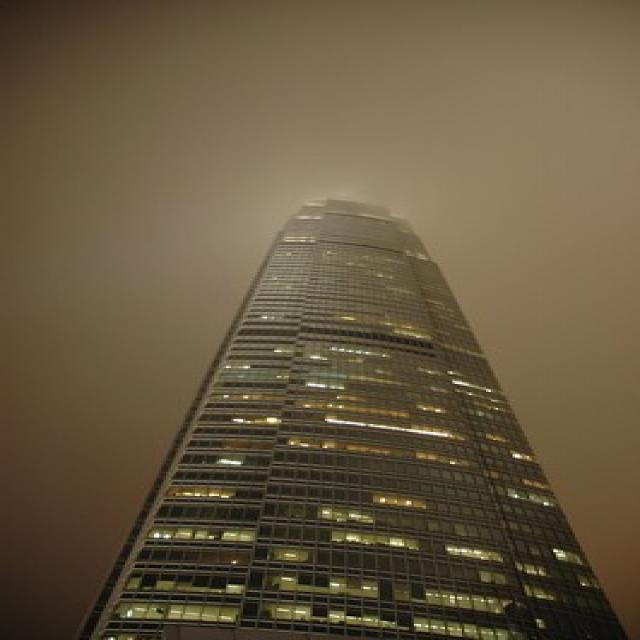Normal_building: (70, 189, 626, 640)
